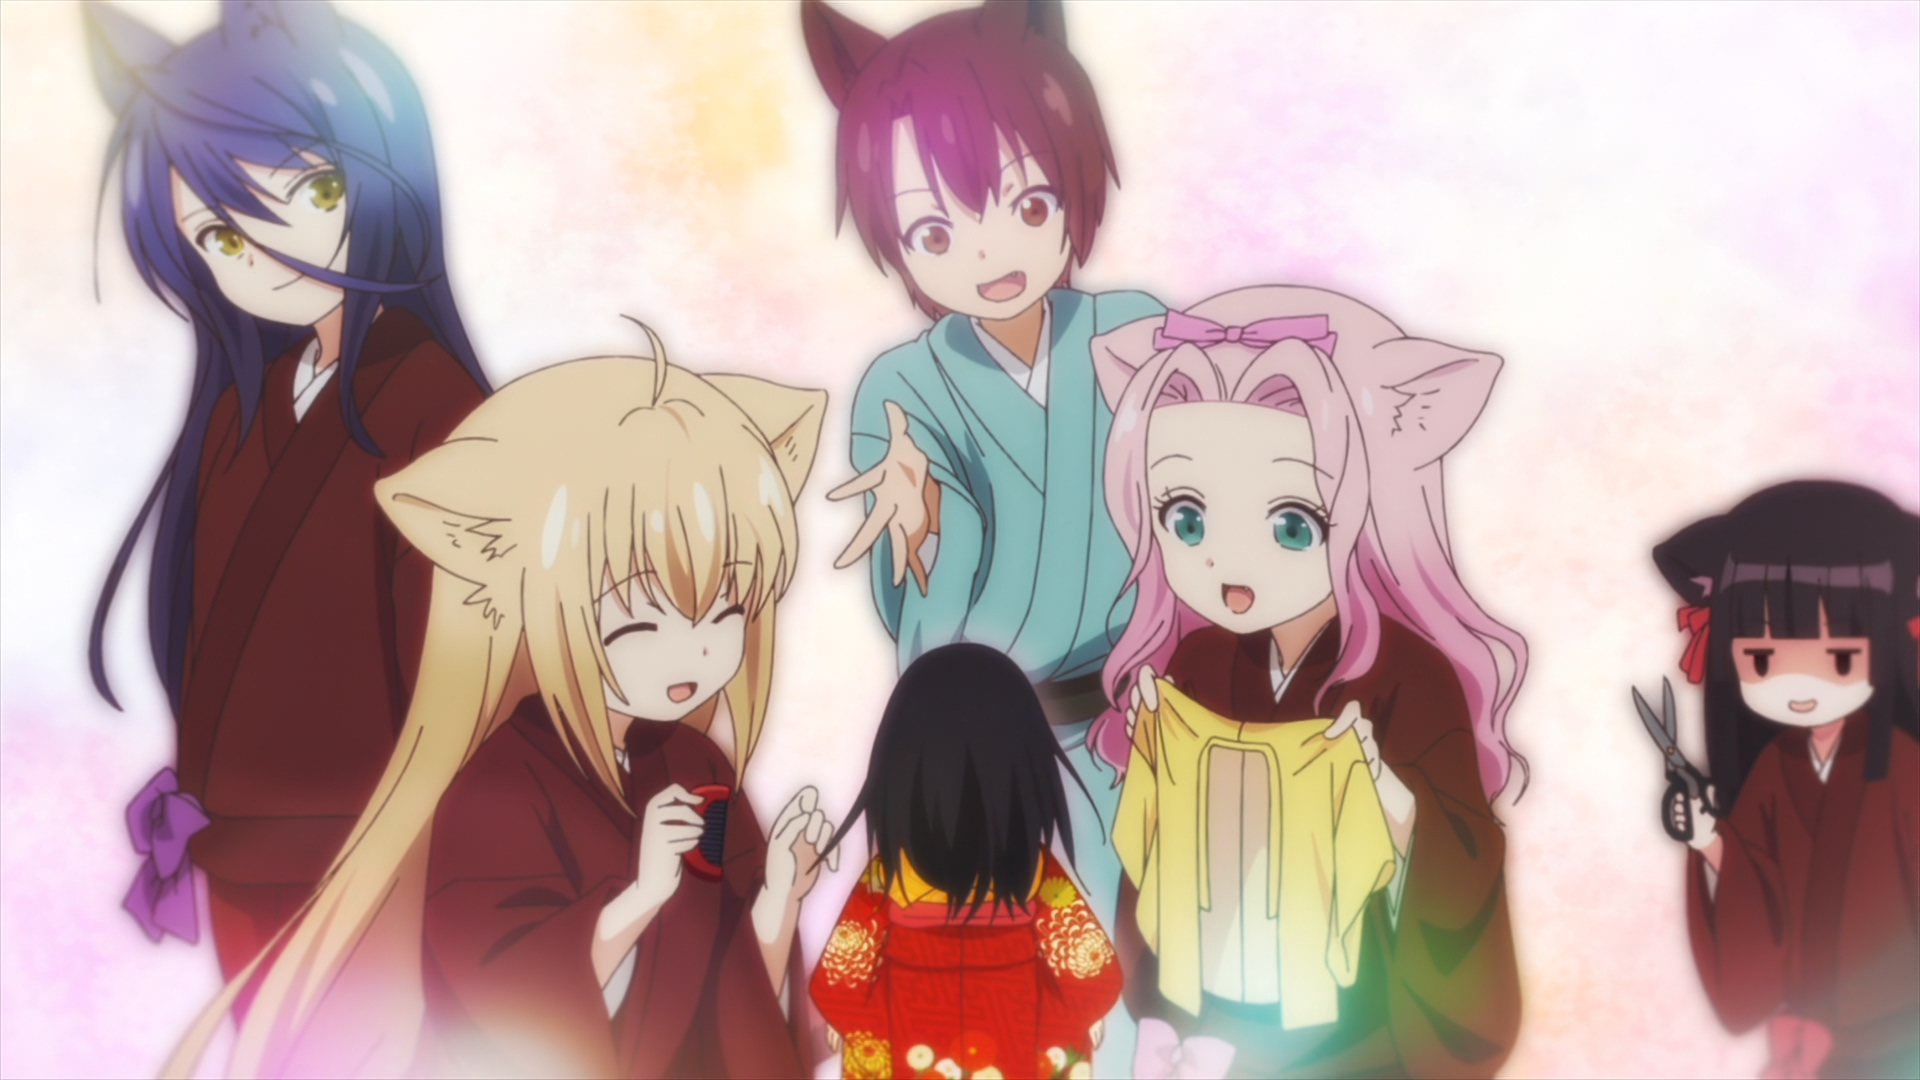枣: (800, 1, 1170, 1080)
柚: (153, 313, 837, 1080)
樱: (1633, 479, 1920, 1080)
皋: (78, 1, 496, 1027)
莲: (1088, 285, 1534, 1080)
阿菊: (808, 641, 1122, 1080)
